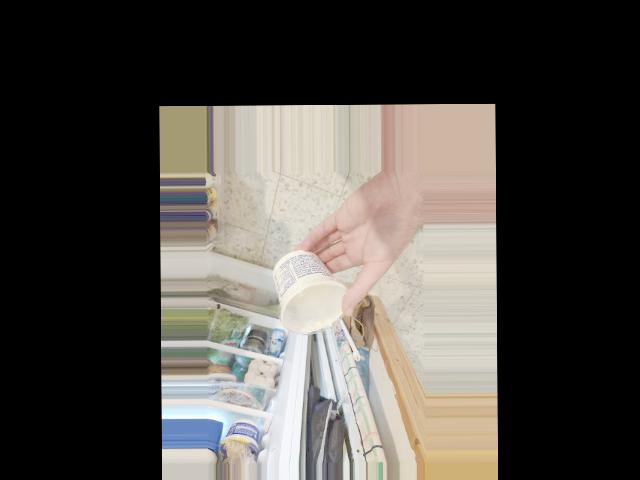cotage: (279, 246, 343, 333)
